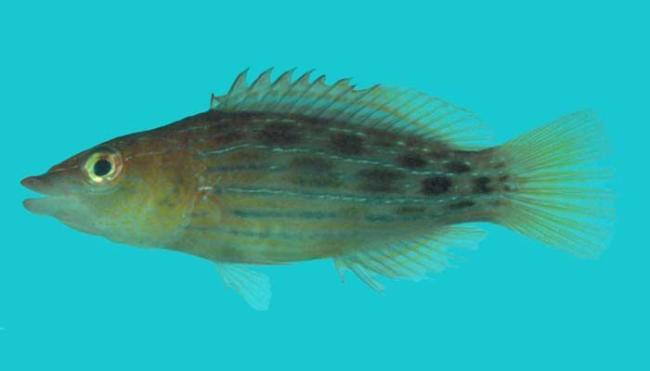fish: (19, 67, 614, 312)
